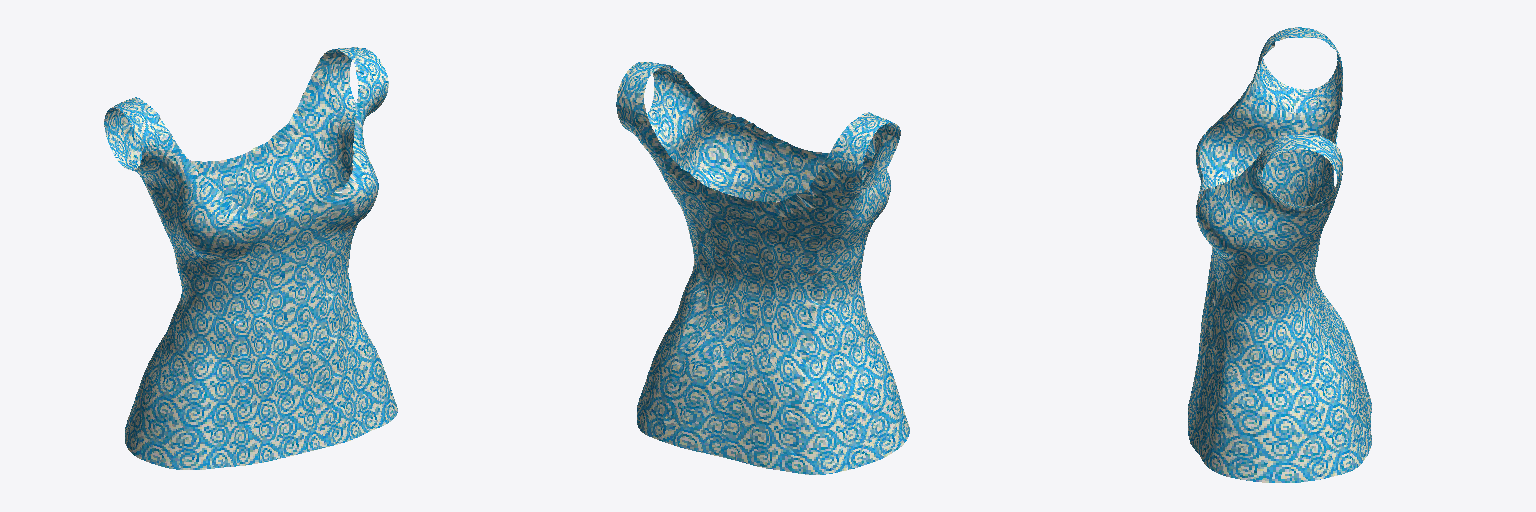
The picture shows the model from 3 angles: view 1: azimuth 30°, elevation 25°; view 2: azimuth 150°, elevation 25°; view 3: azimuth 270°, elevation 25°; orthographic projection.
Visible parts, largest first — view 1: hip.001; view 2: hip.001; view 3: hip.001.
Part boxes in pixels (left/top/right/bottom): hip.001: left=104, top=47, right=397, bottom=469; hip.001: left=616, top=62, right=909, bottom=474; hip.001: left=1188, top=27, right=1371, bottom=482.
Bounding box in the file's own units: 0.286 × 0.3681 × 0.1805.
Materials: 1 (1 with a texture image).